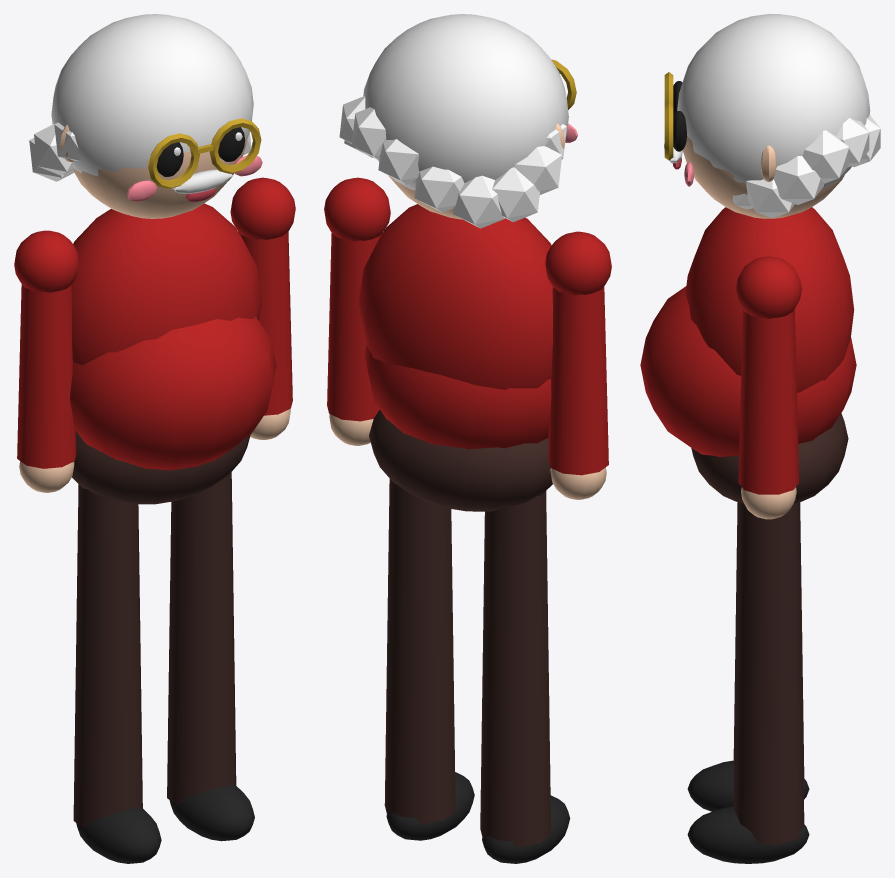
Rendered from parking_angryman.glb.
The picture shows the model from 3 angles, left to right: view 1: azimuth 30°, elevation 25°; view 2: azimuth 150°, elevation 25°; view 3: azimuth 270°, elevation 25°; orthographic projection. The views are drawn at different scales.
Visible parts, largest first — view 1: Body, Leg_R, Leg_L, Arm_R, Arm_L; view 2: Body, Leg_R, Leg_L, Arm_R, Arm_L; view 3: Body, Leg_L, Arm_L, Leg_R.
Boxes of the visible parts, x1,y1,x2,y2 form: Body: (29, 14, 276, 504); Leg_R: (73, 484, 161, 863); Leg_L: (167, 472, 254, 841); Arm_R: (14, 230, 79, 492); Arm_L: (230, 177, 295, 439); Body: (339, 14, 577, 511); Leg_R: (480, 491, 570, 863); Leg_L: (384, 479, 474, 840); Arm_R: (545, 231, 611, 499); Arm_L: (324, 177, 390, 445); Body: (640, 14, 880, 503); Leg_L: (687, 502, 809, 863); Arm_L: (736, 256, 801, 519); Leg_R: (687, 502, 809, 811).
Size of the model in its own units: 0.6228 by 1.77 by 0.4727.
